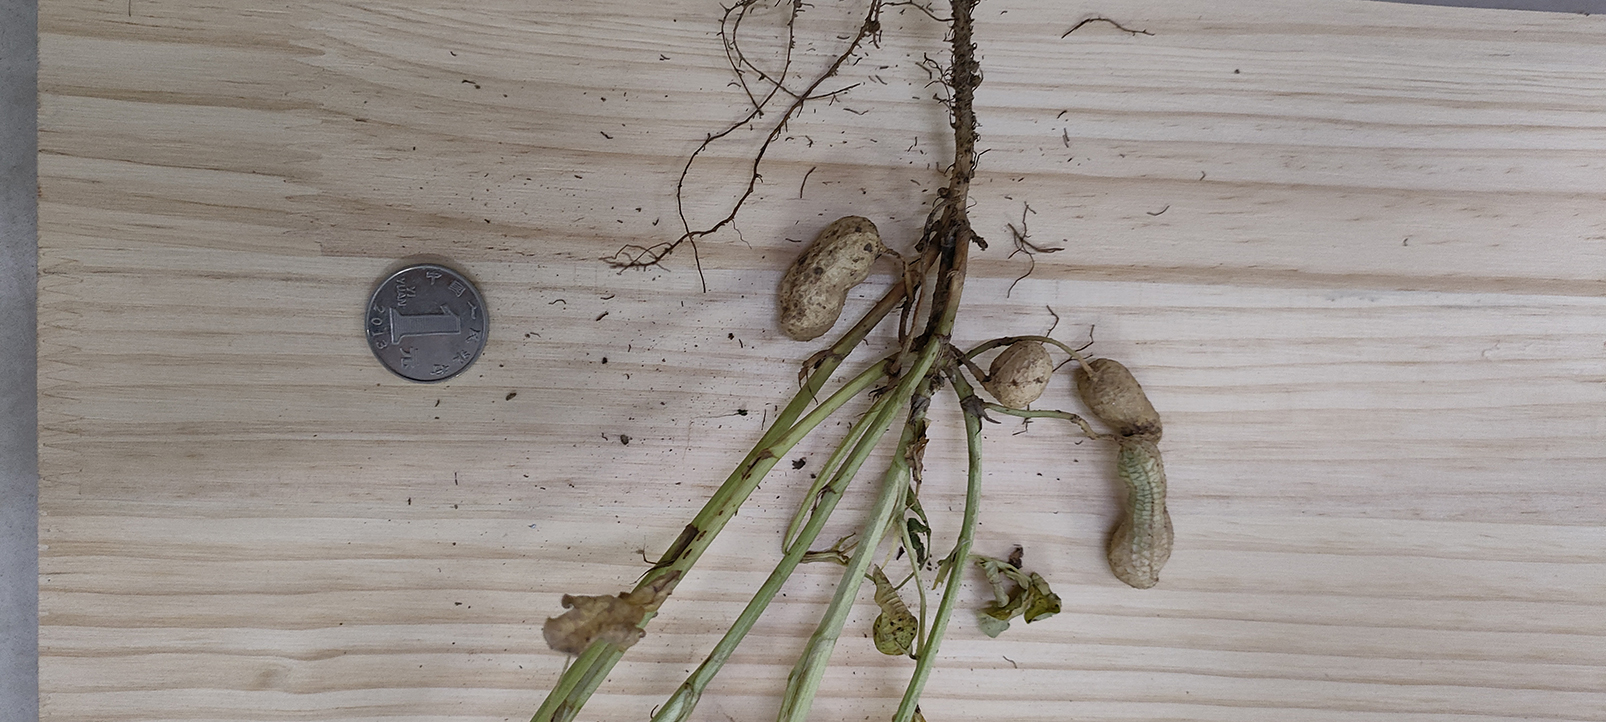h: (777, 213, 880, 343), (1108, 441, 1176, 586), (1081, 360, 1163, 437), (989, 339, 1052, 410)
